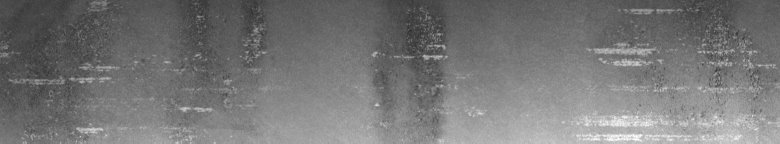hc: (372, 8, 448, 106)
